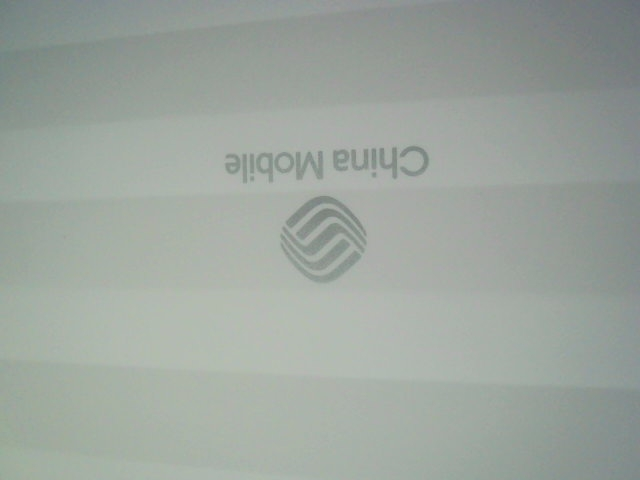AA_ChinaMobile: (215, 135, 442, 294)
